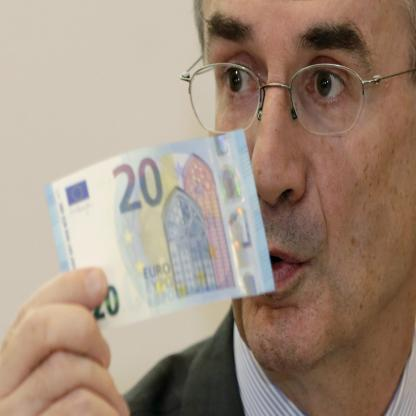billete: (44, 128, 276, 329)
